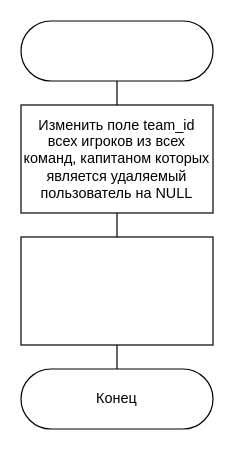
Some shapes in this 234 by 450 pixel diagram are drawn without their labels. The shapes that lost their labels are listed below. From the top down, each one's centre as x and y in pixels, then its label:
At point 116,50: "Начало".
At point 116,290: "Изменить поле deleted удаляемого пользователя на TRUE".
